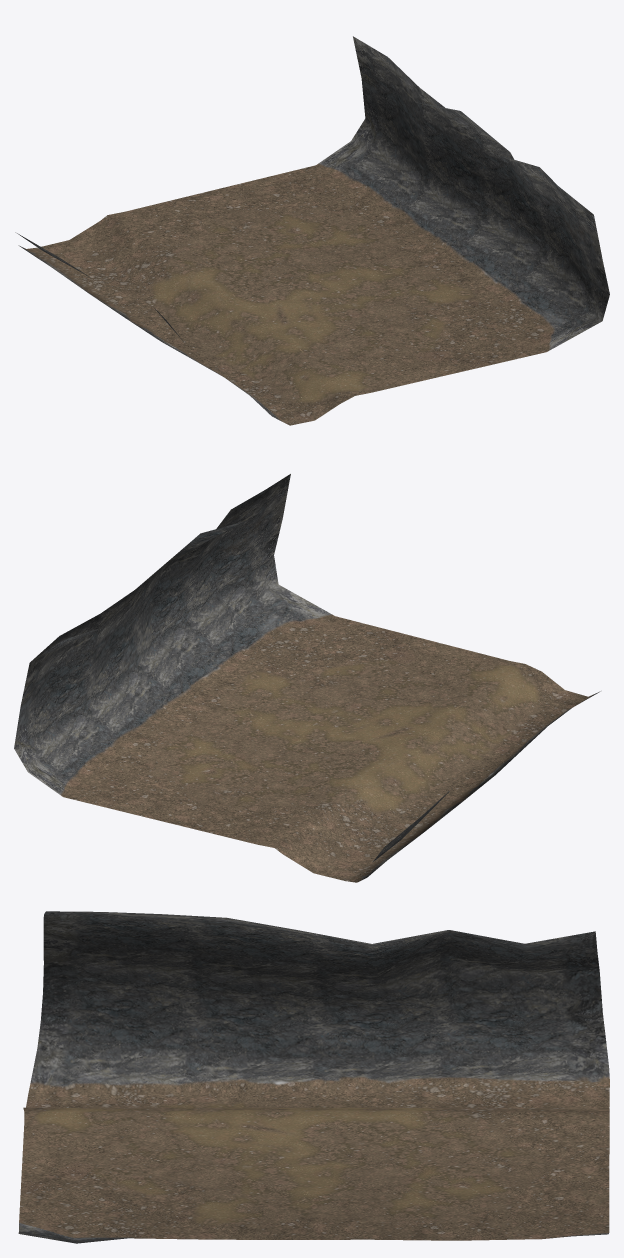
The model's file is TunnelA2.glb.
The picture shows the model from 3 angles, top to bottom: view 1: azimuth 30°, elevation 25°; view 2: azimuth 150°, elevation 25°; view 3: azimuth 270°, elevation 25°; orthographic projection. The views are drawn at different scales.
Visible parts, largest first — view 1: TunnelA2; view 2: TunnelA2; view 3: TunnelA2.
Boxes of the visible parts, bbox=[...] form: TunnelA2: bbox=[15, 36, 609, 425]; TunnelA2: bbox=[14, 474, 600, 882]; TunnelA2: bbox=[18, 911, 609, 1243].
Size of the model in its own units: 4.24 by 2.29 by 5.17.
Materials: 1 (1 with a texture image).
